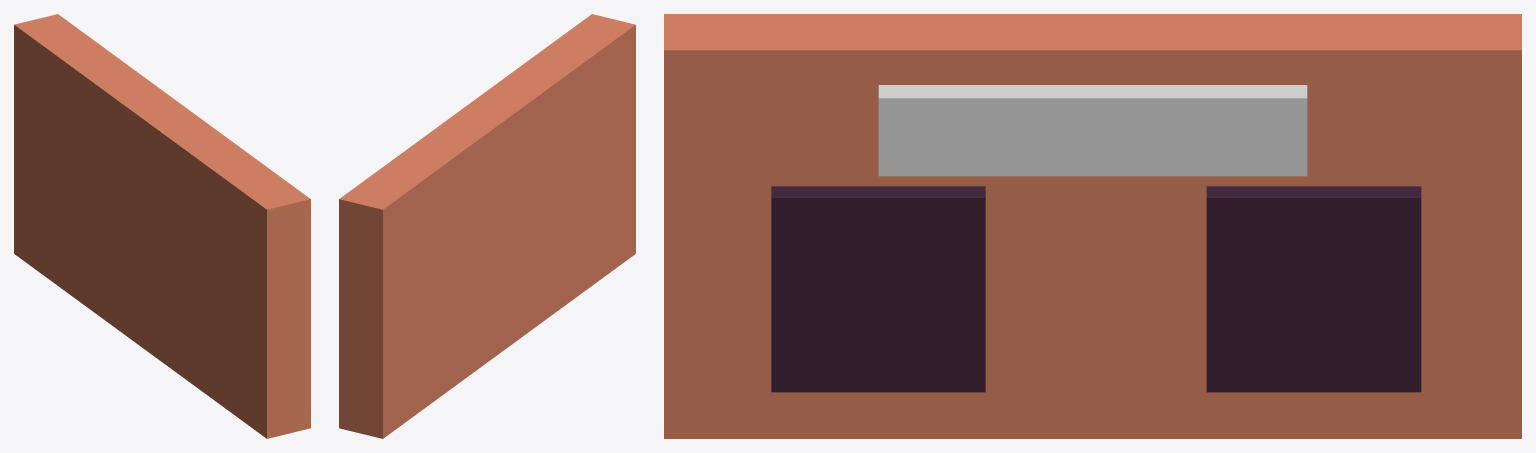
File: scoreboard.glb
3 views of the same model, side by side, from view 1: azimuth 30°, elevation 25°; view 2: azimuth 150°, elevation 25°; view 3: azimuth 270°, elevation 25° (orthographic). The views are drawn at different scales.
Visible parts, largest first — view 1: wall; view 2: wall; view 3: wall, right_score, left_score, title.
Boxes of the visible parts, left/top/right/bottom form: wall: left=14, top=14, right=310, bottom=438; wall: left=339, top=14, right=635, bottom=438; wall: left=664, top=14, right=1521, bottom=438; right_score: left=1206, top=186, right=1421, bottom=392; left_score: left=771, top=186, right=985, bottom=392; title: left=878, top=85, right=1307, bottom=176.
Size of the model in its own units: 0.5475 by 2 by 4.
